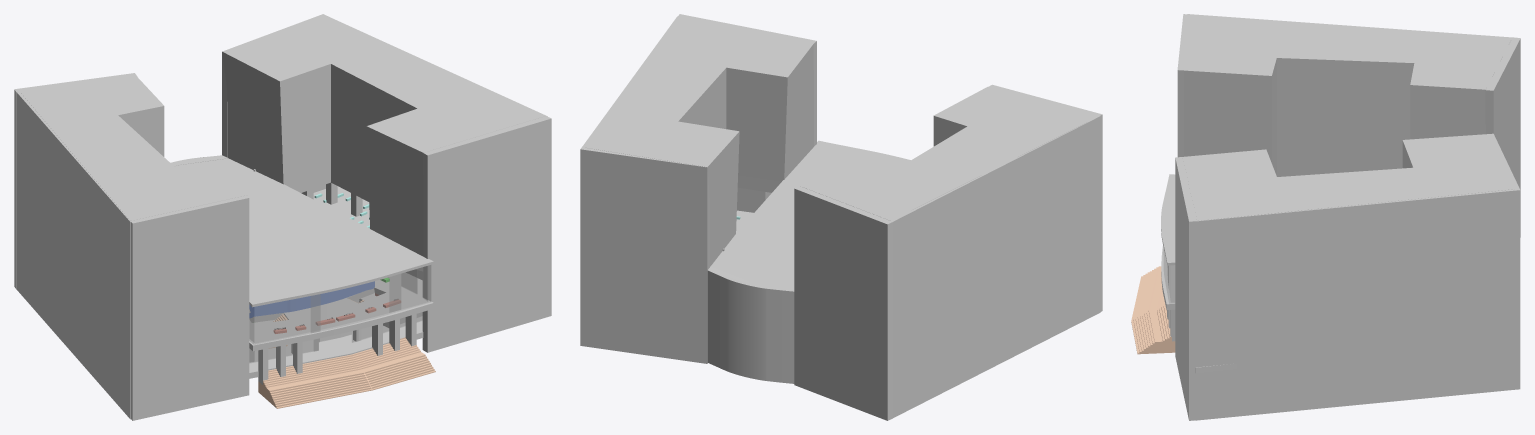
Rendered from researchcentermodelv5.glb.
The picture shows the model from 3 angles, left to right: view 1: azimuth 30°, elevation 25°; view 2: azimuth 150°, elevation 25°; view 3: azimuth 270°, elevation 25°; orthographic projection.
Visible parts, largest first — view 1: floor__outside__building_r_main, floor__outside__building_r_front_wall, floor__outside__building_r_front_wall.001, floor__outside__building_r_right_wall.001, floor__outside__building_r_main.001, floor__outside__top_ceiling, floor__outside__front_4f_glass, floor__4f__4f_base_base, floor__1f__stairs_1f, floor__1f__1f_base, floor__4f__room_r0_4f, floor__outside__building_r_back_wall.001 (+2 smaller); view 2: floor__outside__building_r_right_wall.001, floor__outside__building_r_main, floor__outside__building_r_back_wall, floor__outside__building_r_back_wall.001, floor__outside__building_r_main.001, floor__outside__back_wall, floor__outside__top_ceiling, floor__outside__building_r_front_wall.001, floor__outside__building_r_front_wall, floor__elevators__elevator_shaft_r; view 3: floor__outside__building_r_right_wall, floor__outside__building_r_main.001, floor__outside__building_r_main, floor__outside__building_r_front_wall, floor__outside__building_r_back_wall.001, floor__1f__stairs_1f, floor__outside__building_r_back_wall, floor__outside__top_ceiling, floor__outside__building_r_front_wall.001, floor__4f__4f_base_base, floor__outside__building_r_right_wall.001, floor__outside__front_4f_glass.
Boxes of the visible parts, box(x1,y1,x2,y2) form: floor__outside__building_r_main: box(222, 16, 545, 271); floor__outside__building_r_front_wall: box(422, 116, 551, 352); floor__outside__building_r_front_wall.001: box(130, 195, 249, 420); floor__outside__building_r_right_wall.001: box(17, 92, 130, 419); floor__outside__building_r_main.001: box(20, 76, 250, 312); floor__outside__top_ceiling: box(174, 158, 433, 307); floor__outside__front_4f_glass: box(249, 265, 430, 344); floor__4f__4f_base_base: box(249, 186, 433, 351); floor__1f__stairs_1f: box(258, 337, 435, 408); floor__1f__1f_base: box(249, 316, 423, 378); floor__4f__room_r0_4f: box(249, 281, 374, 318); floor__outside__building_r_back_wall.001: box(14, 73, 137, 289); floor__outside__building_r_right_wall.001: box(891, 116, 1100, 417); floor__outside__building_r_main: box(585, 17, 813, 266); floor__outside__building_r_back_wall: box(580, 146, 709, 363); floor__outside__building_r_back_wall.001: box(794, 186, 893, 420); floor__outside__building_r_main.001: box(800, 86, 1098, 220); floor__outside__back_wall: box(707, 266, 794, 383); floor__outside__top_ceiling: box(711, 140, 910, 287); floor__outside__building_r_front_wall.001: box(989, 84, 1102, 311); floor__outside__building_r_front_wall: box(677, 14, 816, 146); floor__elevators__elevator_shaft_r: box(737, 187, 771, 212); floor__outside__building_r_right_wall: box(1195, 189, 1512, 420); floor__outside__building_r_main.001: box(1184, 14, 1511, 176); floor__outside__building_r_main: box(1182, 133, 1514, 220); floor__outside__building_r_front_wall: box(1175, 157, 1196, 420); floor__outside__building_r_back_wall.001: box(1485, 37, 1520, 237); floor__1f__stairs_1f: box(1131, 266, 1175, 354); floor__outside__building_r_back_wall: box(1493, 134, 1520, 389); floor__outside__top_ceiling: box(1161, 174, 1175, 265); floor__outside__building_r_front_wall.001: box(1177, 14, 1189, 157); floor__4f__4f_base_base: box(1161, 245, 1237, 373); floor__outside__building_r_right_wall.001: box(1187, 14, 1512, 38); floor__outside__front_4f_glass: box(1164, 251, 1174, 303).
Size of the model in its own units: 116 by 52.8 by 92.15.
